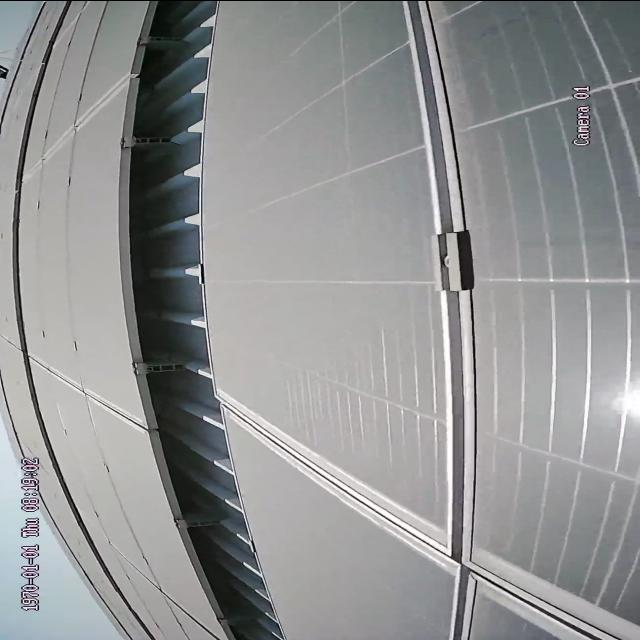interior panel: (231, 7, 638, 640), (31, 73, 121, 177), (38, 351, 142, 429)
outher panel: (123, 0, 283, 639)
